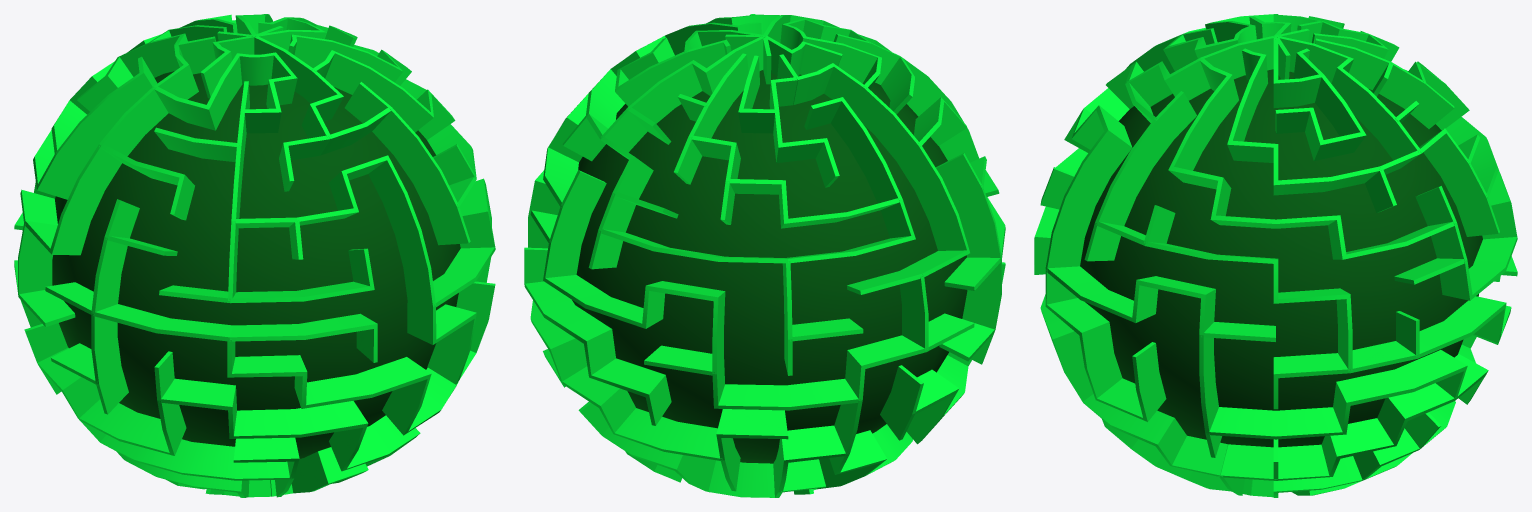
File: spherical_maze.glb
The picture shows the model from 3 angles, left to right: view 1: azimuth 30°, elevation 25°; view 2: azimuth 150°, elevation 25°; view 3: azimuth 270°, elevation 25°; orthographic projection.
Visible parts, largest first — view 1: Object_2; view 2: Object_2; view 3: Object_2.
Part boxes in pixels (x1,y1,x2,y2): Object_2: [14, 14, 495, 497]; Object_2: [524, 14, 1005, 497]; Object_2: [1034, 14, 1517, 497].
Size of the model in its own units: 23.25 by 23.31 by 23.25.
